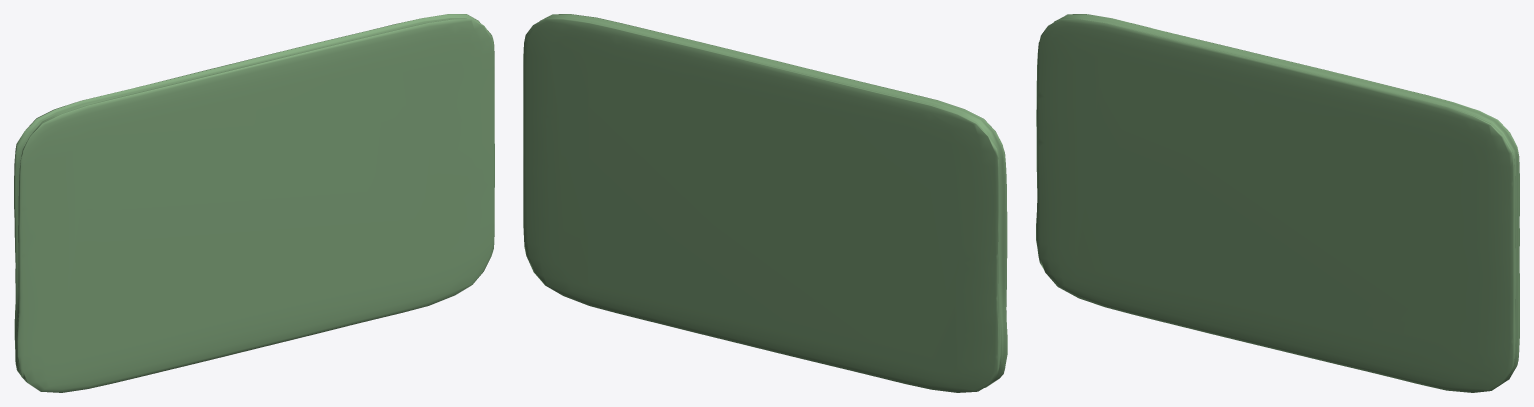
The model's file is screen.glb.
The picture shows the model from 3 angles, left to right: view 1: azimuth 30°, elevation 25°; view 2: azimuth 150°, elevation 25°; view 3: azimuth 330°, elevation 25°; orthographic projection.
Visible parts, largest first — view 1: temp_mesh.ply; view 2: temp_mesh.ply; view 3: temp_mesh.ply.
Part boxes in pixels (box(x1,y1,x2,y2)): temp_mesh.ply: box(14, 14, 494, 392); temp_mesh.ply: box(523, 14, 1007, 392); temp_mesh.ply: box(1036, 14, 1519, 392).
Bounding box in the file's own units: 3.61 × 2.05 × 0.127.
